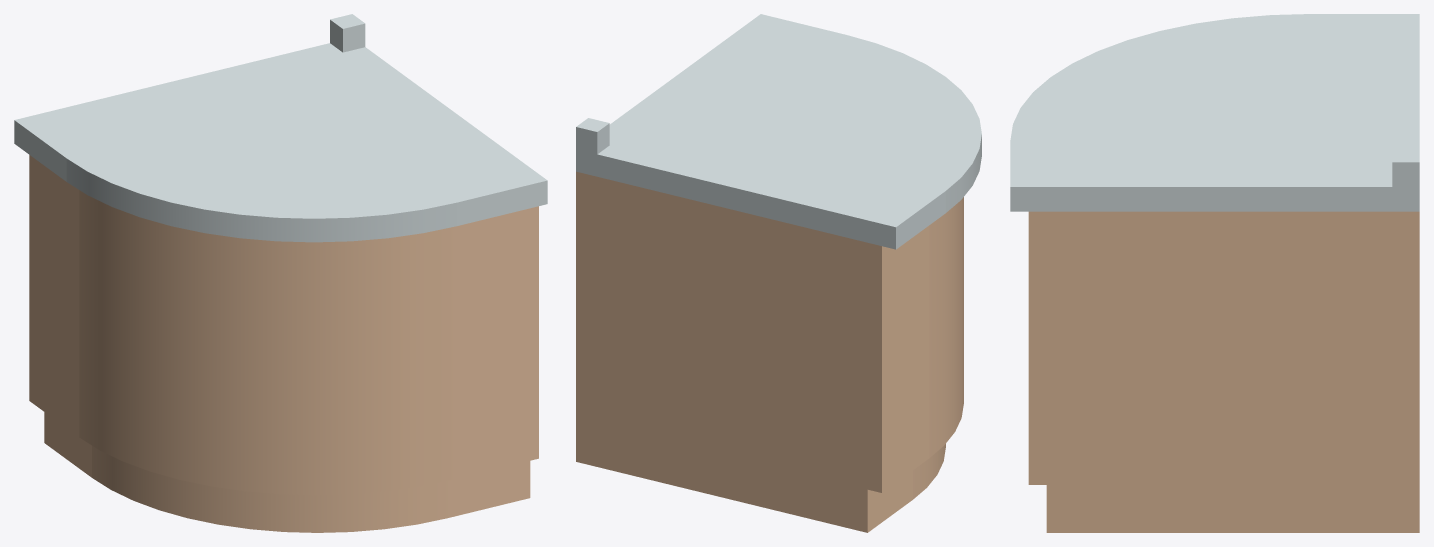
File: kitchenCabinetCornerRound.glb
3 views of the same model, side by side, from view 1: azimuth 30°, elevation 25°; view 2: azimuth 150°, elevation 25°; view 3: azimuth 270°, elevation 25° (orthographic). The views are drawn at different scales.
Parts seen in each view (by area): view 1: kitchenCabinetCornerRound(Clone); view 2: kitchenCabinetCornerRound(Clone); view 3: kitchenCabinetCornerRound(Clone).
Part boxes in pixels (left/top/right/bottom): kitchenCabinetCornerRound(Clone): left=14, top=14, right=547, bottom=532; kitchenCabinetCornerRound(Clone): left=576, top=14, right=981, bottom=532; kitchenCabinetCornerRound(Clone): left=1010, top=14, right=1419, bottom=532.
Bounding box in the file's own units: 0.45 × 0.45 × 0.45.
